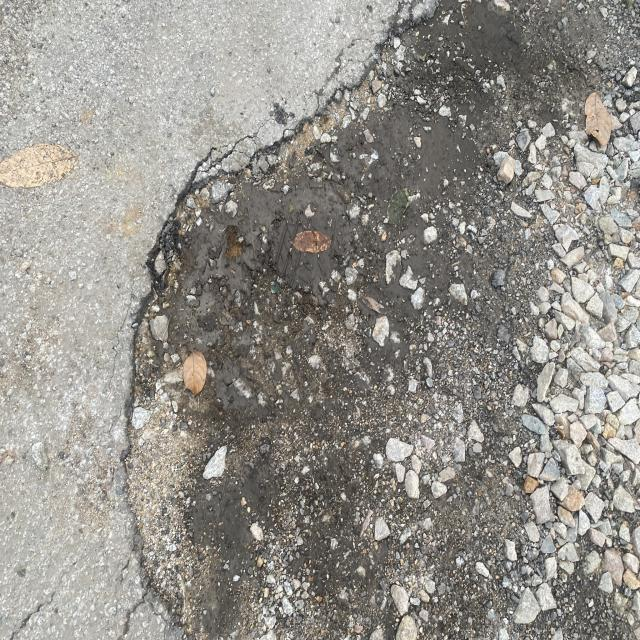Pothole: (92, 57, 356, 640)
